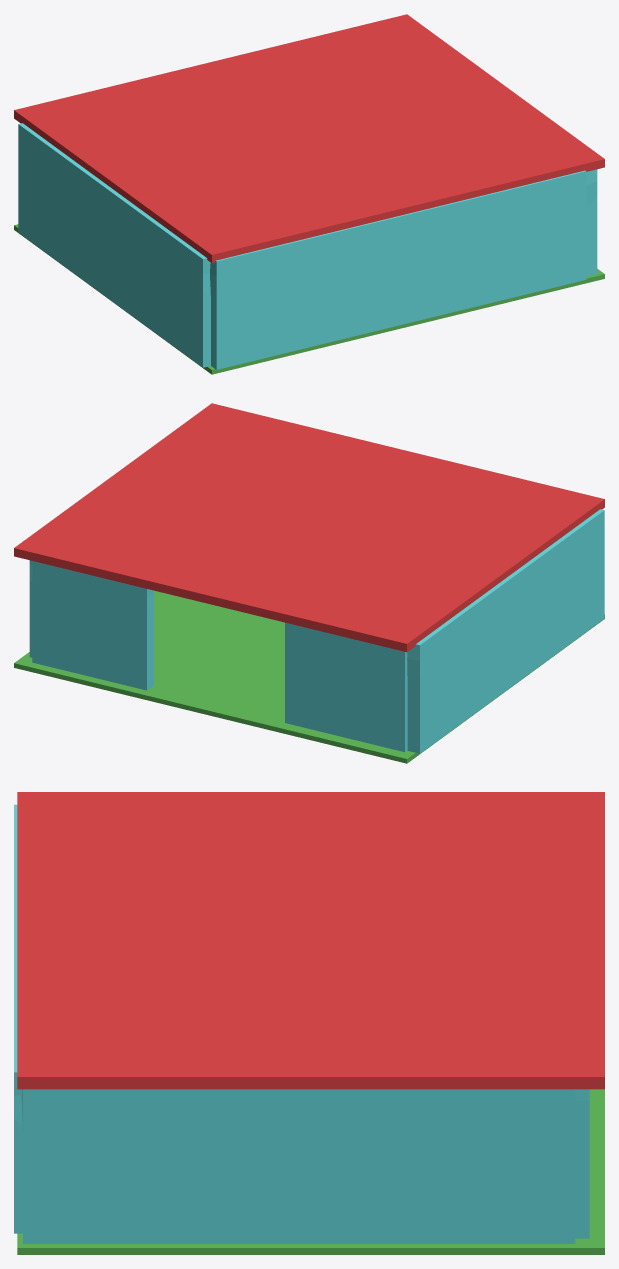
File: bitis_odasi.fbx
The picture shows the model from 3 angles, top to bottom: view 1: azimuth 30°, elevation 25°; view 2: azimuth 150°, elevation 25°; view 3: azimuth 270°, elevation 25°; orthographic projection. The views are drawn at different scales.
Visible parts, largest first — view 1: Plane.006; view 2: Plane.006; view 3: Plane.006.
Part boxes in pixels (left/top/right/bottom): Plane.006: left=14, top=14, right=604, bottom=374; Plane.006: left=14, top=403, right=604, bottom=763; Plane.006: left=14, top=792, right=604, bottom=1254.
Bounding box in the file's own units: 6454 × 1859 × 5598.
